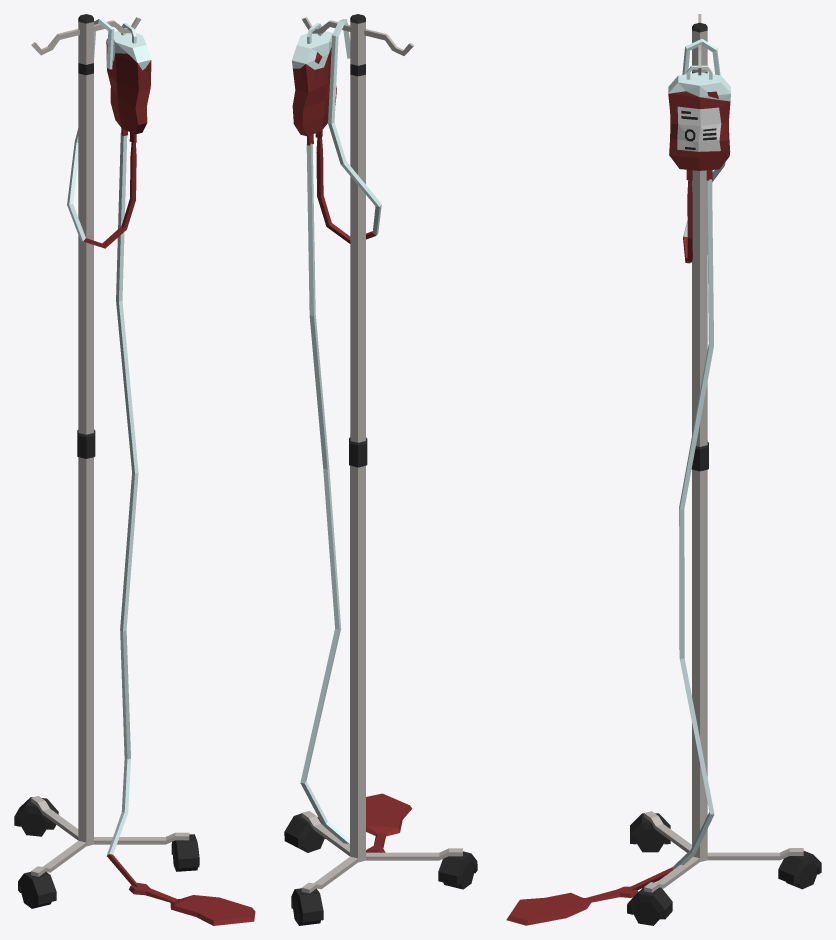
The model's file is apocalypse-iv-pole-blood-bag.glb.
The picture shows the model from 3 angles, left to right: view 1: azimuth 30°, elevation 25°; view 2: azimuth 150°, elevation 25°; view 3: azimuth 270°, elevation 25°; orthographic projection.
Visible parts, largest first — view 1: iv-pole-blood-bag; view 2: iv-pole-blood-bag; view 3: iv-pole-blood-bag.
Boxes of the visible parts, x1=… form: iv-pole-blood-bag: x1=14, y1=14, x2=255, y2=925; iv-pole-blood-bag: x1=284, y1=14, x2=477, y2=925; iv-pole-blood-bag: x1=506, y1=14, x2=821, y2=925.
Bounding box in the file's own units: 0.4175 × 1.96 × 0.6535.
